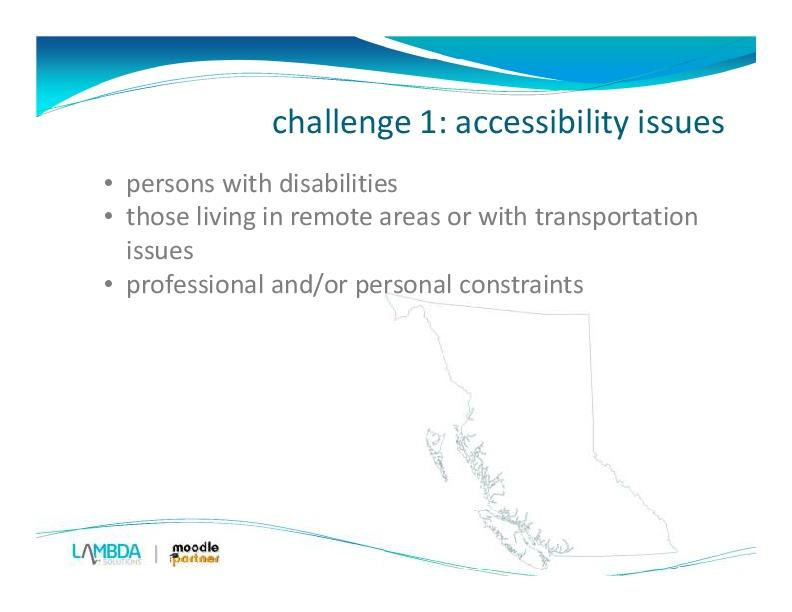paragraph: (100, 164, 721, 331)
title: (266, 92, 753, 149)
